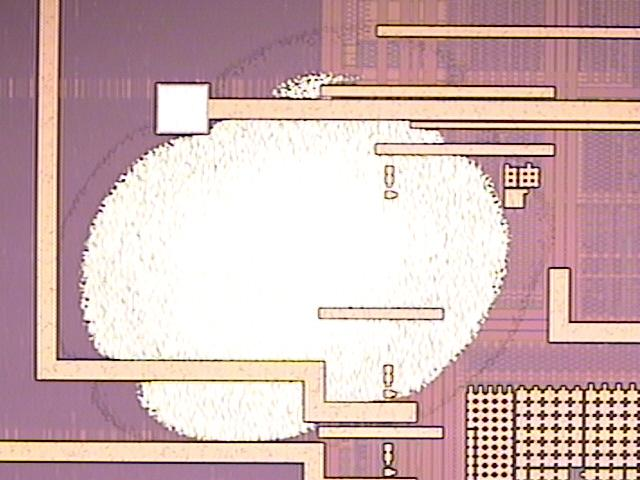BLOCK ETCH: (58, 22, 556, 449)
